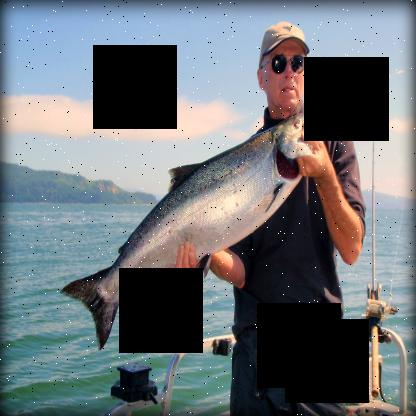fish: (63, 111, 318, 345)
